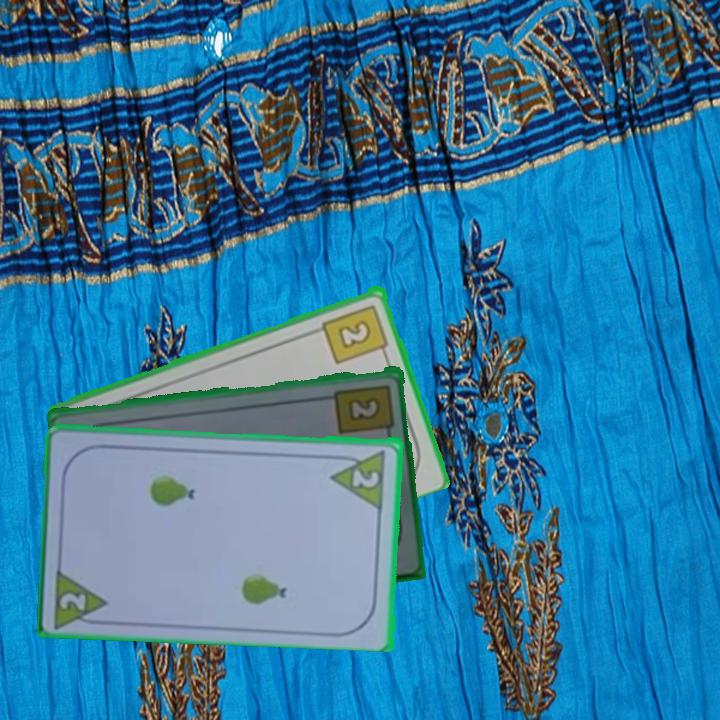2b: (319, 300, 392, 367), (331, 380, 397, 441)
2p: (50, 563, 112, 629), (348, 465, 383, 490)
